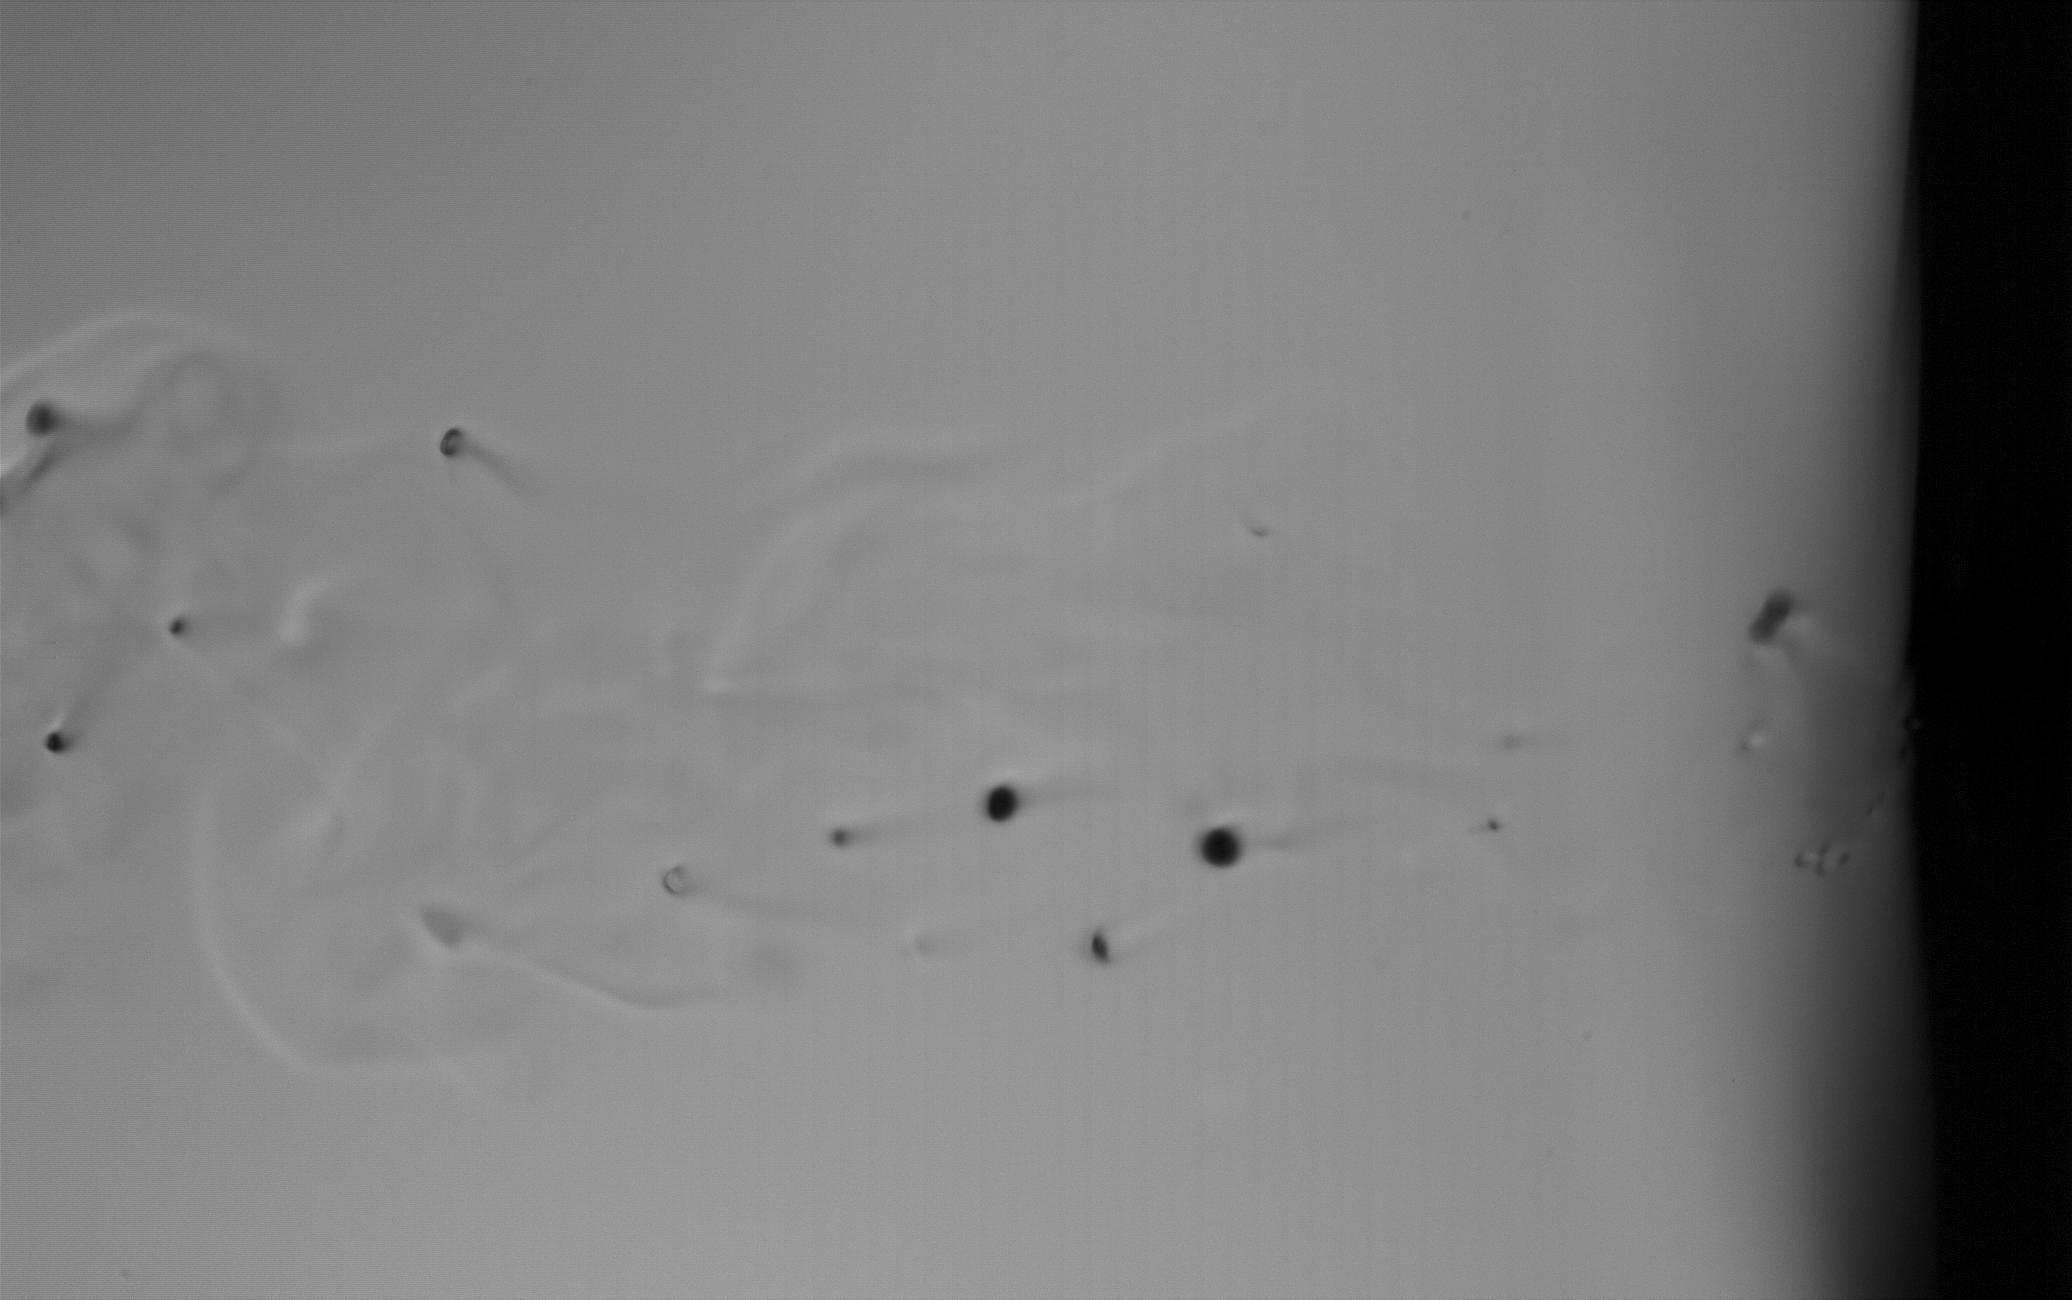Blurry: (1779, 836, 1862, 881), (1746, 584, 1797, 651), (418, 902, 472, 956), (22, 397, 67, 445), (659, 860, 699, 902), (436, 419, 467, 463), (828, 822, 850, 857), (1481, 813, 1505, 842)
ClassicalEvaporation: (1198, 822, 1249, 876), (37, 717, 79, 764), (978, 782, 1023, 822), (165, 614, 192, 644)
TransitionalMixing: (1090, 932, 1118, 972)
